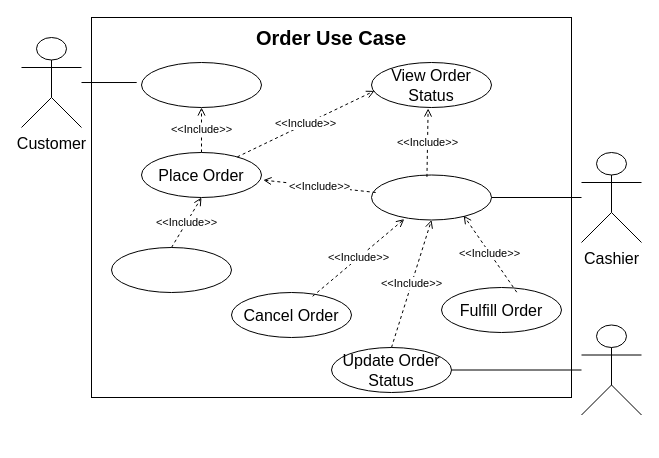
Image size: 659x458. Some labels were removed from this diagram. Each missing label, with the box of its shape:
Cook: (580, 324, 642, 415)
Log In: (110, 246, 232, 292)
Manage Order: (370, 174, 492, 220)
View Menu: (140, 62, 262, 108)
